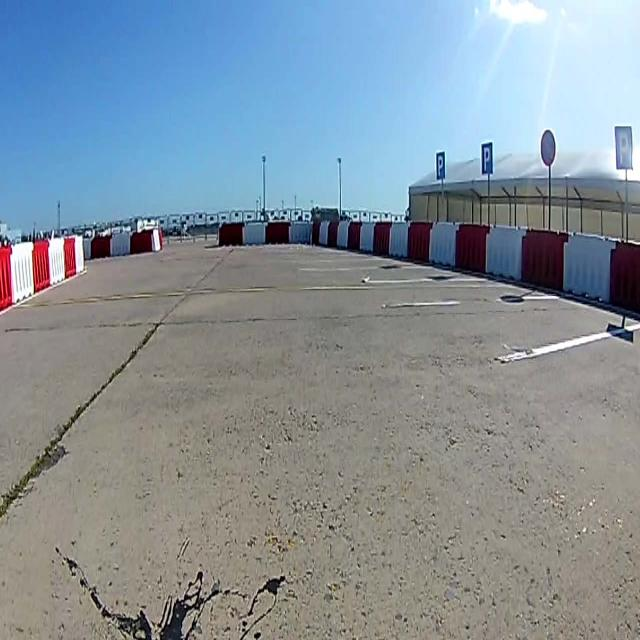park: (614, 126, 632, 170), (481, 144, 494, 176), (435, 152, 445, 180)
parkyasak: (540, 128, 556, 166)
